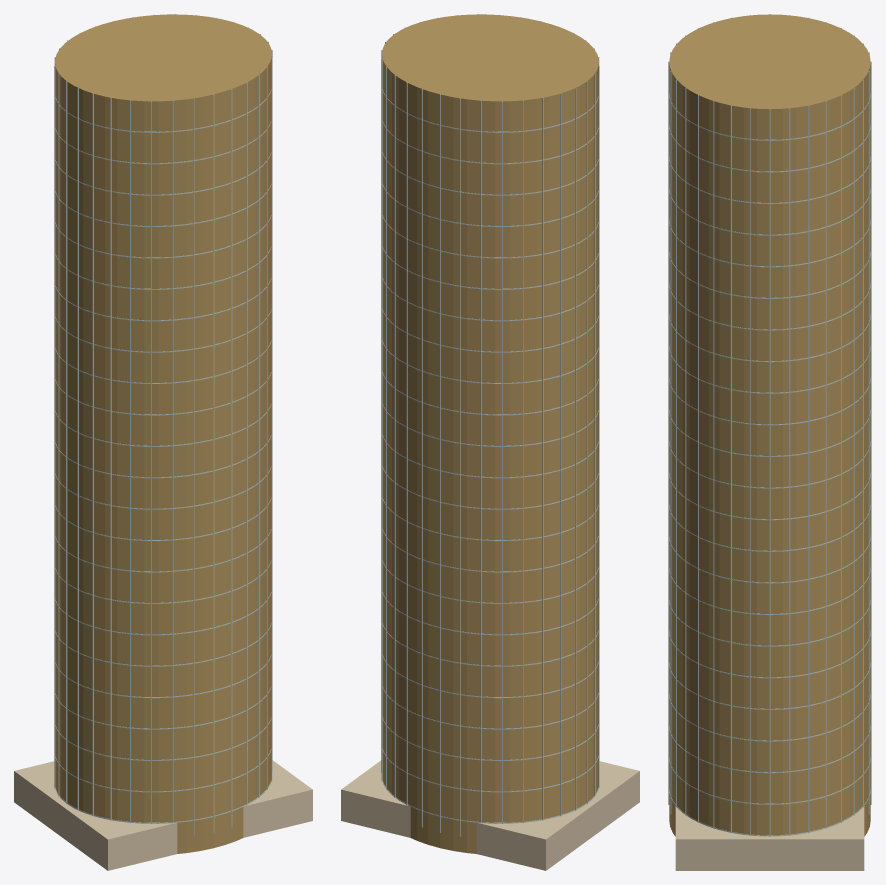
File: aurora-plaza.glb
3 views of the same model, side by side, from view 1: azimuth 30°, elevation 25°; view 2: azimuth 150°, elevation 25°; view 3: azimuth 270°, elevation 25° (orthographic).
Parts seen in each view (by area): view 1: aurora-plaza; view 2: aurora-plaza; view 3: aurora-plaza.
Part boxes in pixels (x1,y1,x2,y2): aurora-plaza: (14,14,312,870); aurora-plaza: (341,14,639,870); aurora-plaza: (668,14,871,870).
Bounding box in the file's own units: 52.64 × 185 × 44.91.
